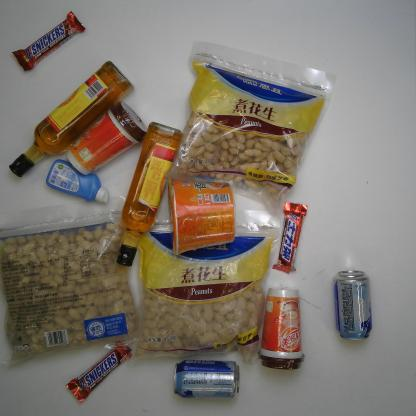Alcohol: (331, 268, 376, 344), (169, 357, 242, 401)
Chocolate: (9, 9, 87, 73), (62, 342, 132, 406), (271, 201, 309, 275)
Dried Food: (163, 38, 339, 214), (0, 193, 133, 374), (132, 218, 284, 368)
Instant Drink: (65, 99, 149, 176), (258, 284, 306, 374)
Instant Noodles: (166, 178, 237, 256)
Personal Hygiene: (44, 158, 109, 206)
Seasoner: (8, 59, 136, 179), (115, 121, 184, 268)
